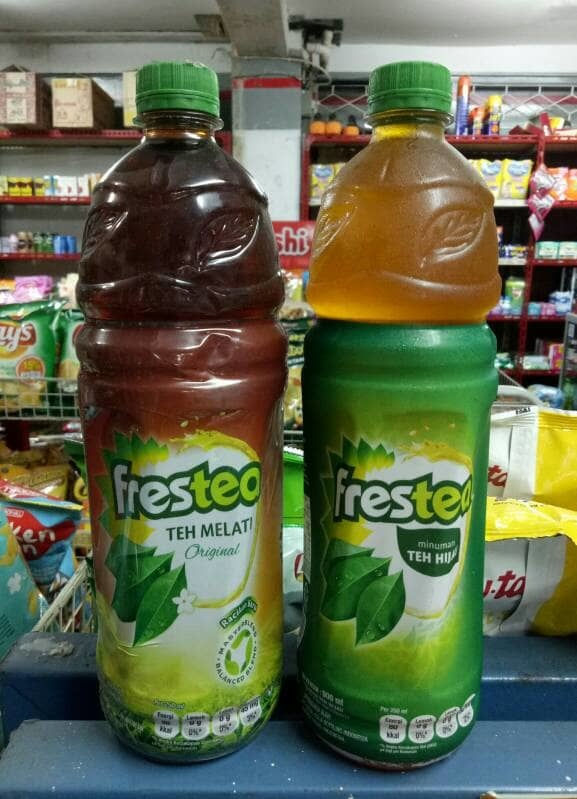botol: (72, 59, 283, 760), (72, 65, 283, 760), (299, 59, 496, 768), (299, 68, 496, 768), (307, 68, 496, 768)
